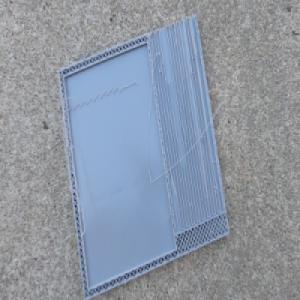PlasticPart: (55, 15, 231, 288)
